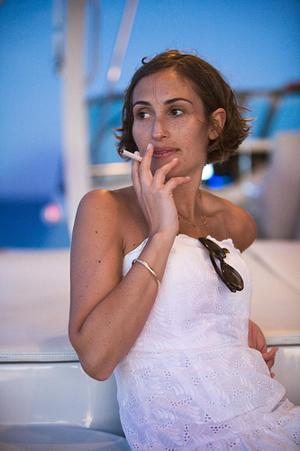person: (68, 51, 299, 451)
